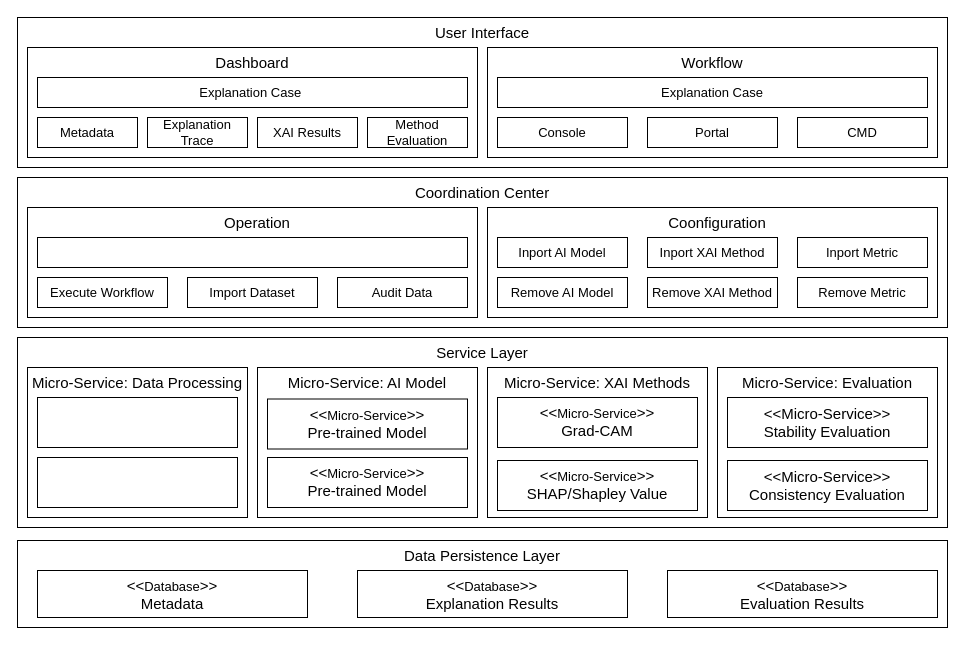
The diagram is 965 pixels wide and 645 high, and some of its shapes have lost their labels. Each missing label, with the centre of its shape:
"<< Micro-Service >> Data Operation" belongs at pixel 137 422.
"<< Micro-Service >> Data Provenance" belongs at pixel 137 482.
"Case Tracking ID" belongs at pixel 252 252.
